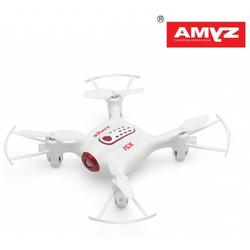drone: (3, 72, 233, 226)
